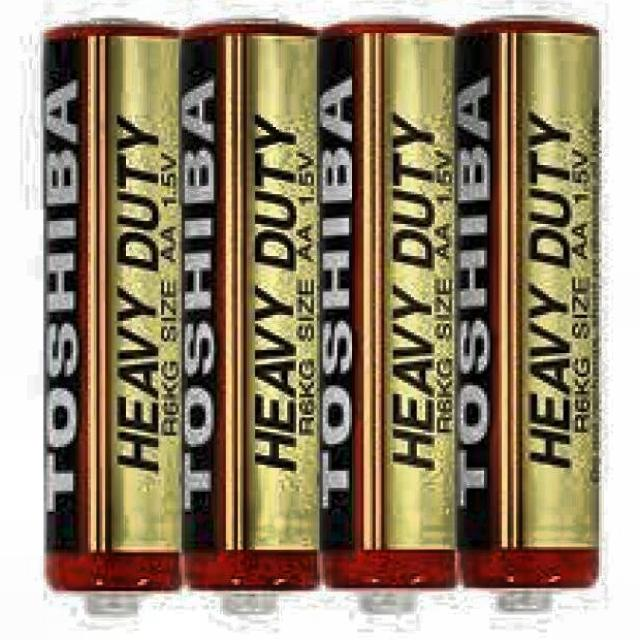Non-Valuable Waste - Batteries: (453, 19, 599, 618), (179, 20, 323, 617), (319, 17, 456, 615)
